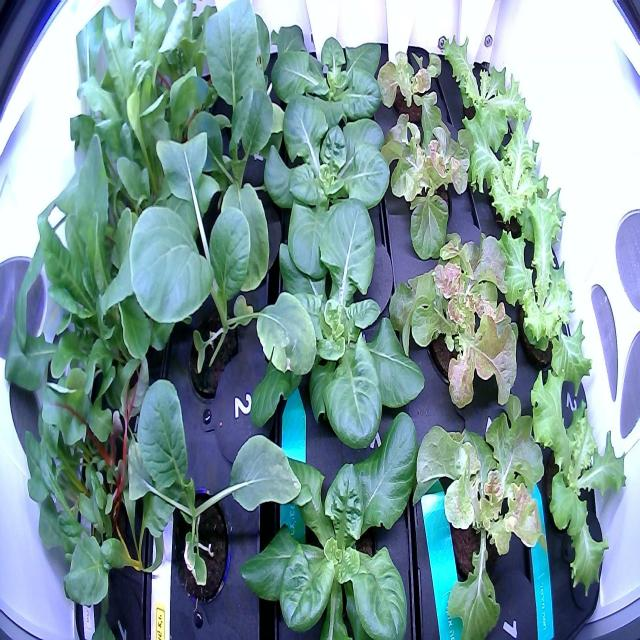young: (218, 380, 429, 638), (232, 192, 433, 455), (258, 85, 402, 284), (261, 13, 388, 142)
